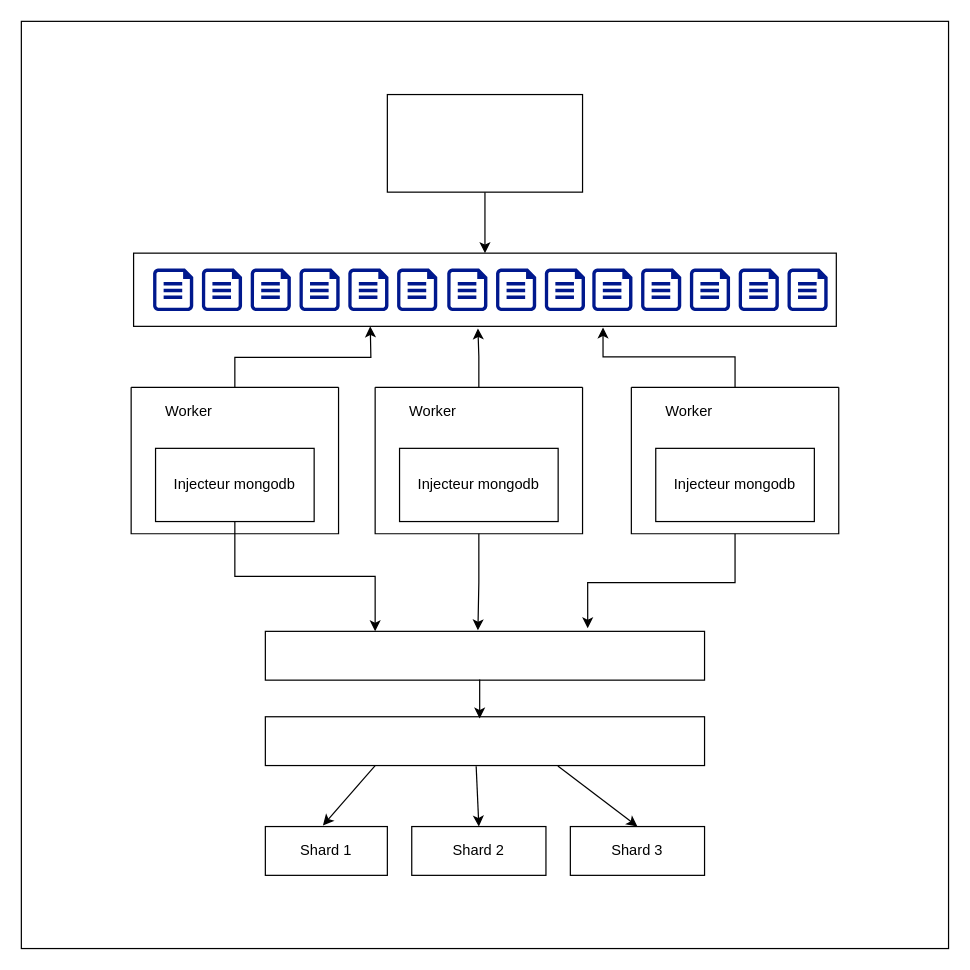
Some shapes in this 970 by 970 pixel diagram are drawn without their labels. The shapes that lost their labels are listed below. From the top down, each one's centre as x and y in pixels, then its label:
At [484,142]: "Splitter csv".
At [484,655]: "Base mongodb".
At [484,741]: "Collection".
